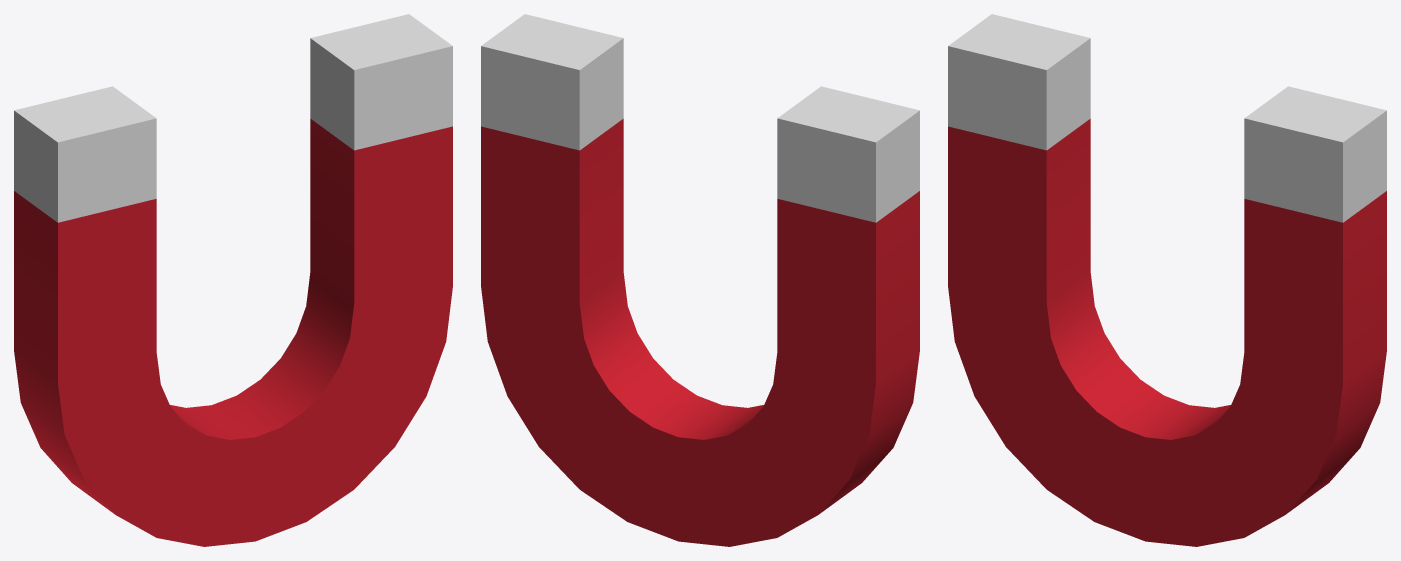
Rendered from Magnet.fbx.
The picture shows the model from 3 angles, left to right: view 1: azimuth 30°, elevation 25°; view 2: azimuth 150°, elevation 25°; view 3: azimuth 330°, elevation 25°; orthographic projection.
Parts seen in each view (by area): view 1: Circle; view 2: Circle; view 3: Circle.
Part boxes in pixels (box(x1,y1,x2,y2)): Circle: box(14, 14, 452, 546); Circle: box(481, 14, 919, 546); Circle: box(948, 14, 1386, 546).
Bounding box in the file's own units: 27.01 × 29.21 × 5.19.
